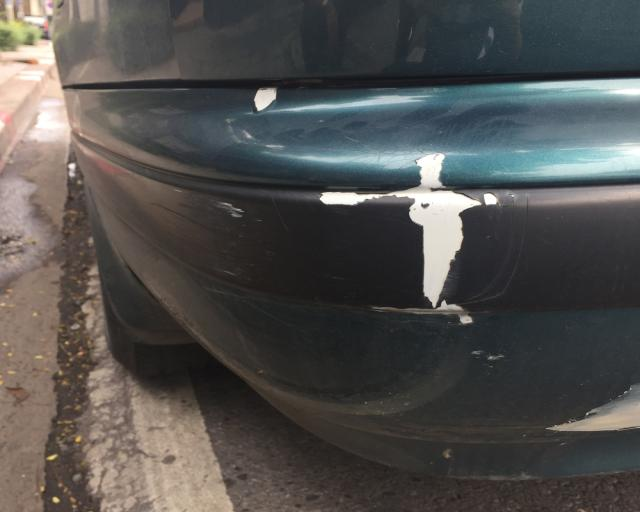scratch: (182, 148, 504, 323)
